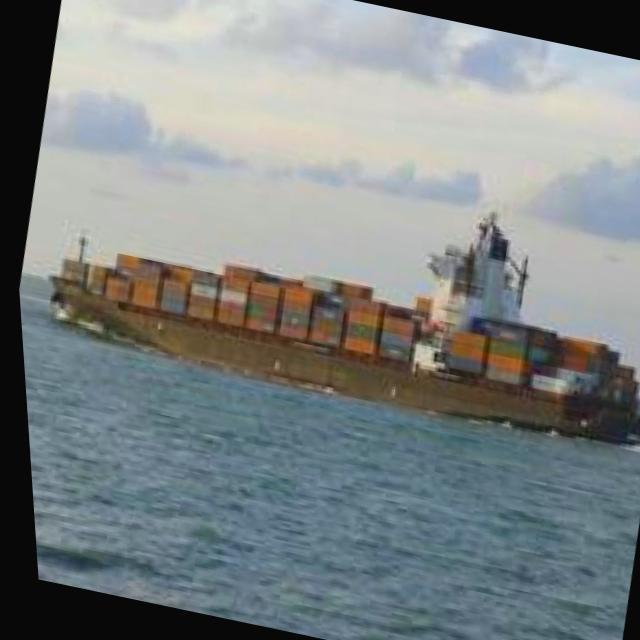ship2: (44, 213, 640, 449)
